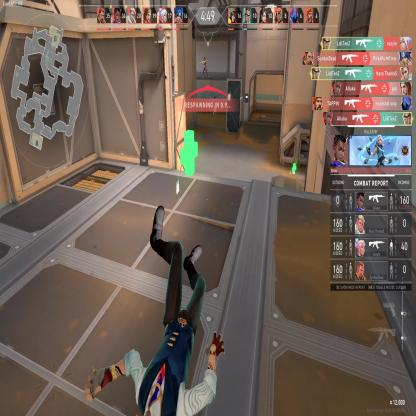enemy: (201, 56, 209, 78)
